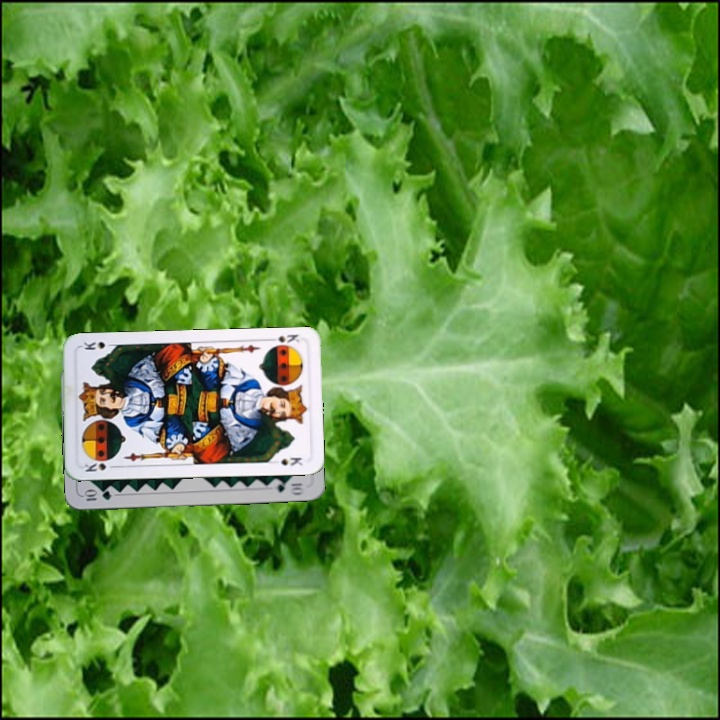G10: (80, 487, 114, 503)
SK: (80, 459, 120, 474), (264, 330, 302, 345)
